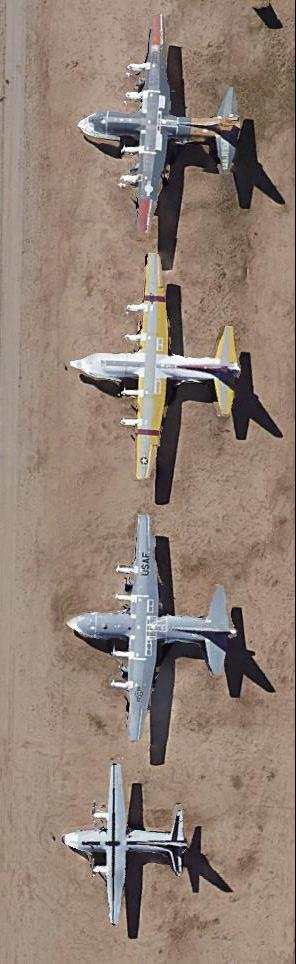C-130: (66, 248, 250, 483), (66, 512, 245, 747), (74, 13, 247, 237)
plane: (60, 760, 193, 927)
